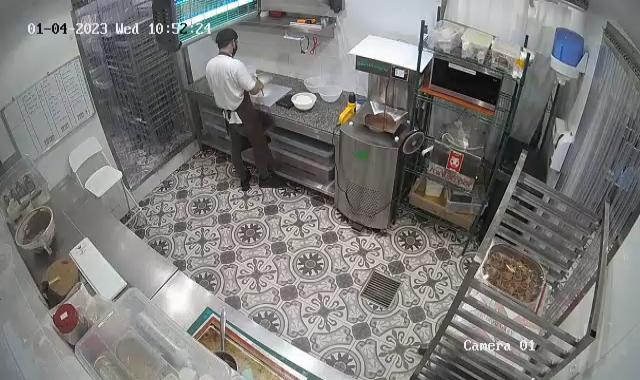no_hairnet: (216, 28, 240, 47)
